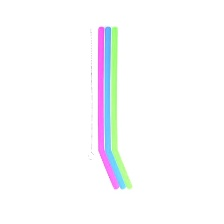drinking_straw: (94, 23, 135, 193)
